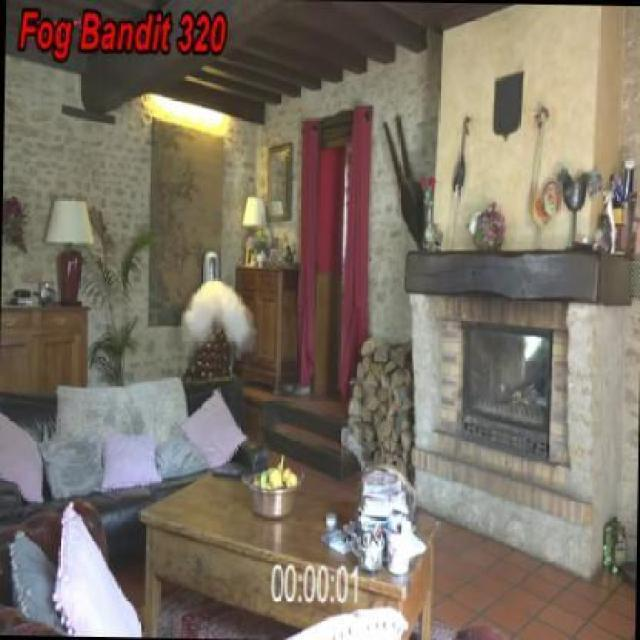fire: (182, 275, 250, 354)
